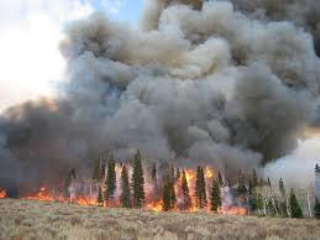fire: (112, 166, 246, 214), (17, 179, 111, 210)
smoke: (57, 10, 313, 167)
